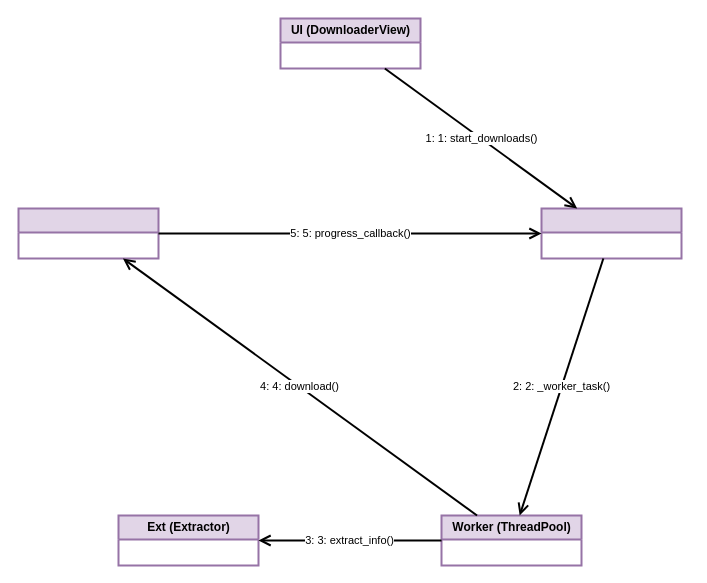
This 707x583 diagram has some shape labels left out. Each missing label, with the box of its shape:
Ctrl (DownloaderController): (540, 207, 682, 259)
DL (PythonDownloader): (17, 207, 159, 259)
